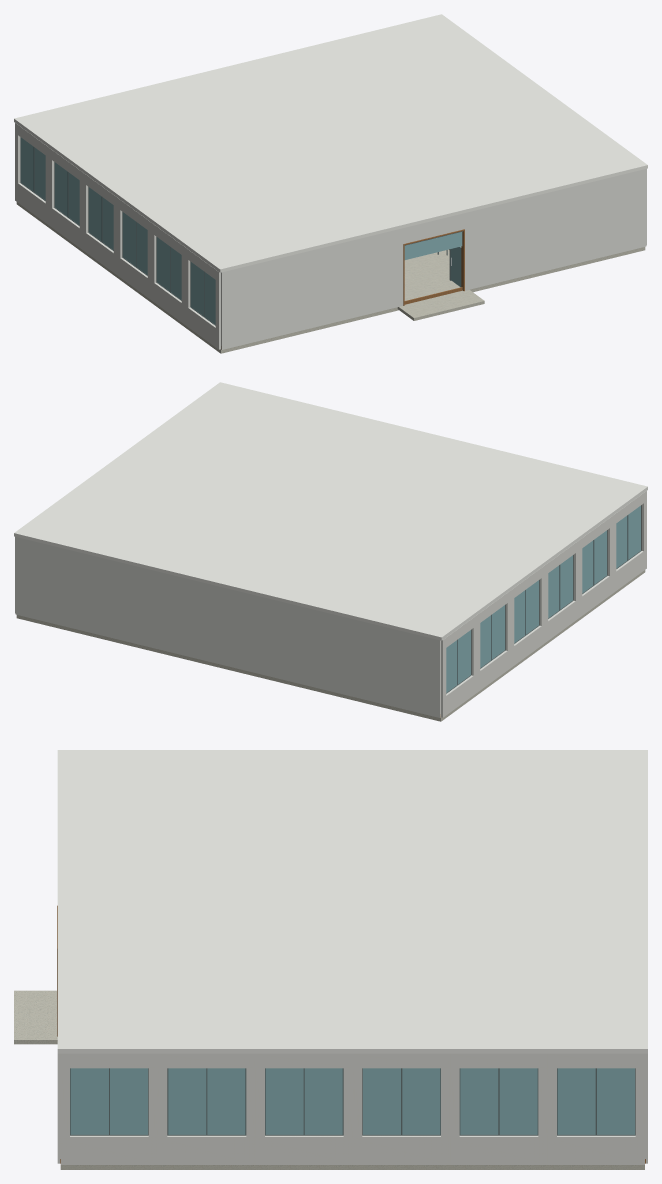
The model's file is canteen.glb.
3 views of the same model, one above another, from view 1: azimuth 30°, elevation 25°; view 2: azimuth 150°, elevation 25°; view 3: azimuth 270°, elevation 25° (orthographic). The views are drawn at different scales.
Visible parts, largest first — view 1: interior-batch__interior-ceiling, interior-batch__interior-plaster, interior-batch__interior-glass, interior-batch__interior-terrazzo, interior-batch__interior-metal, interior-batch__interior-oak; view 2: interior-batch__interior-ceiling, interior-batch__interior-plaster, interior-batch__interior-glass, interior-batch__interior-terrazzo, interior-batch__interior-metal; view 3: interior-batch__interior-ceiling, interior-batch__interior-plaster, interior-batch__interior-glass, interior-batch__interior-terrazzo, interior-batch__interior-metal.
Part boxes in pixels (x1=…): interior-batch__interior-ceiling: x1=14, y1=14, x2=647, y2=272; interior-batch__interior-plaster: x1=15, y1=123, x2=646, y2=349; interior-batch__interior-glass: x1=21, y1=137, x2=462, y2=324; interior-batch__interior-terrazzo: x1=16, y1=202, x2=645, y2=353; interior-batch__interior-metal: x1=20, y1=137, x2=463, y2=325; interior-batch__interior-oak: x1=221, y1=229, x2=464, y2=349; interior-batch__interior-ceiling: x1=14, y1=382, x2=647, y2=640; interior-batch__interior-plaster: x1=15, y1=491, x2=646, y2=717; interior-batch__interior-glass: x1=446, y1=505, x2=640, y2=692; interior-batch__interior-terrazzo: x1=16, y1=570, x2=645, y2=721; interior-batch__interior-metal: x1=446, y1=505, x2=641, y2=693; interior-batch__interior-ceiling: x1=57, y1=750, x2=647, y2=1053; interior-batch__interior-plaster: x1=57, y1=1053, x2=647, y2=1164; interior-batch__interior-glass: x1=70, y1=1068, x2=634, y2=1134; interior-batch__interior-terrazzo: x1=14, y1=990, x2=644, y2=1169; interior-batch__interior-metal: x1=70, y1=1068, x2=635, y2=1135.
Bounding box in the file's own units: 24.22 × 4.62 × 21.7.
Materials: 18 (2 with a texture image).
